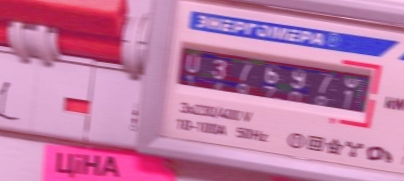0: (183, 51, 201, 75)
1: (340, 88, 352, 111)
3: (211, 58, 226, 81)
6: (262, 61, 280, 86)
7: (236, 59, 253, 83), (316, 70, 333, 94)
9: (289, 67, 306, 91)
screen: (163, 32, 385, 133)
